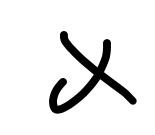mult: (51, 31, 136, 111)
